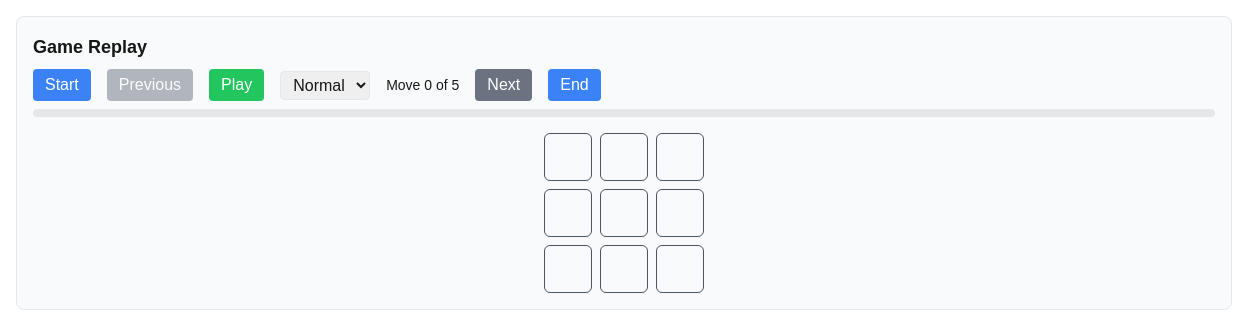
GameReplay Component › goes back when previous is clicked
Click the button "Next": [504, 85] box [475,69,532,101]
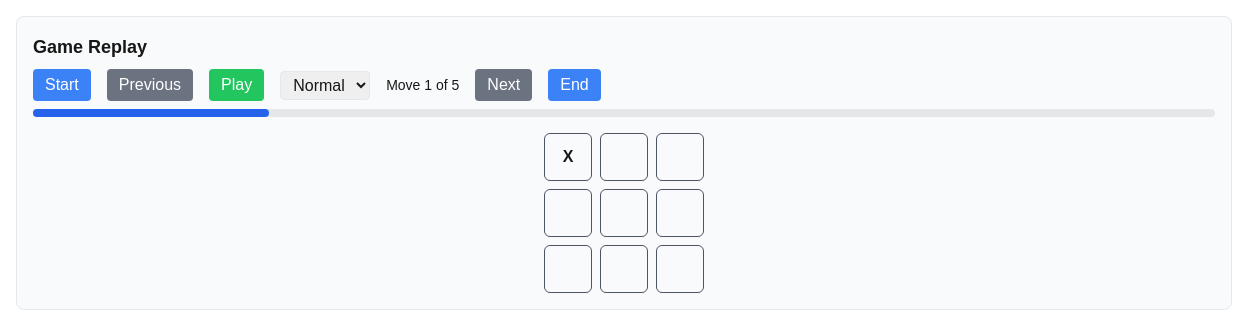
Check: the text "Move 1 of 5" is shown, box [386,75,459,95]
Click the button "Previous": [150, 85] box [107,69,193,101]
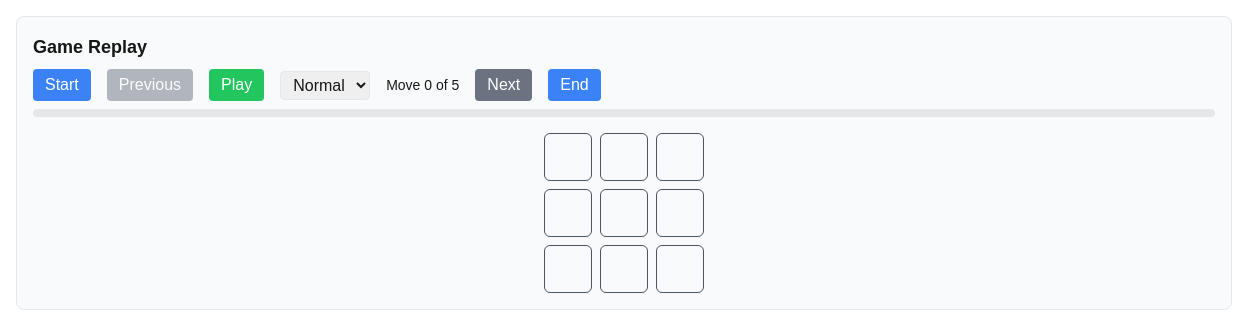
Check: the text "Move 0 of 5" is shown, box [386,75,459,95]
